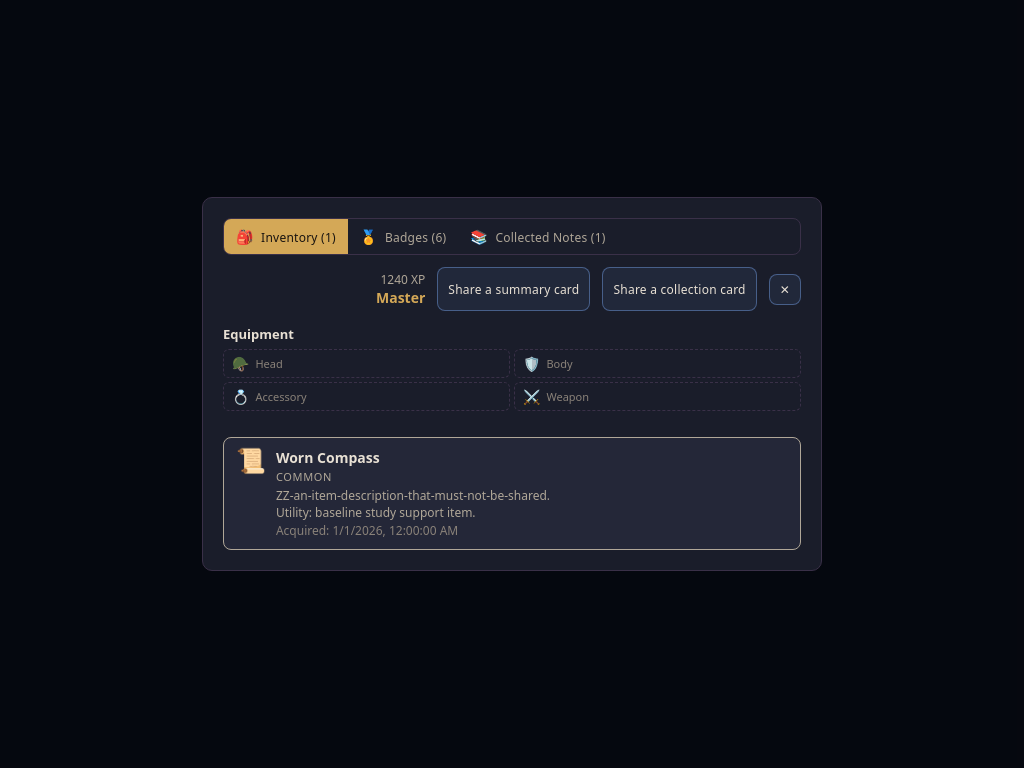
Test case: the panel offers a preview, not an instant download › opens the collection card from its own control
The image size is (1024, 768).
Click the button "Share a collection card" at point(680, 289), box [602,267,757,311]
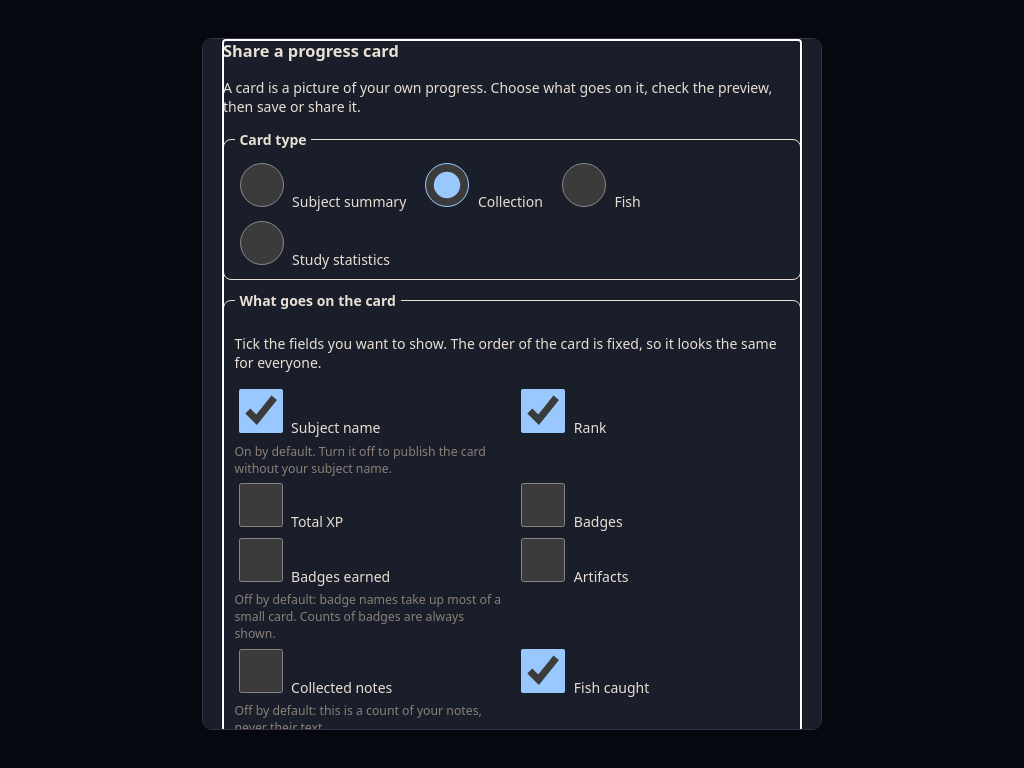
Check: the radio button labelled "Collection" is checked, box [425,163,469,207]
